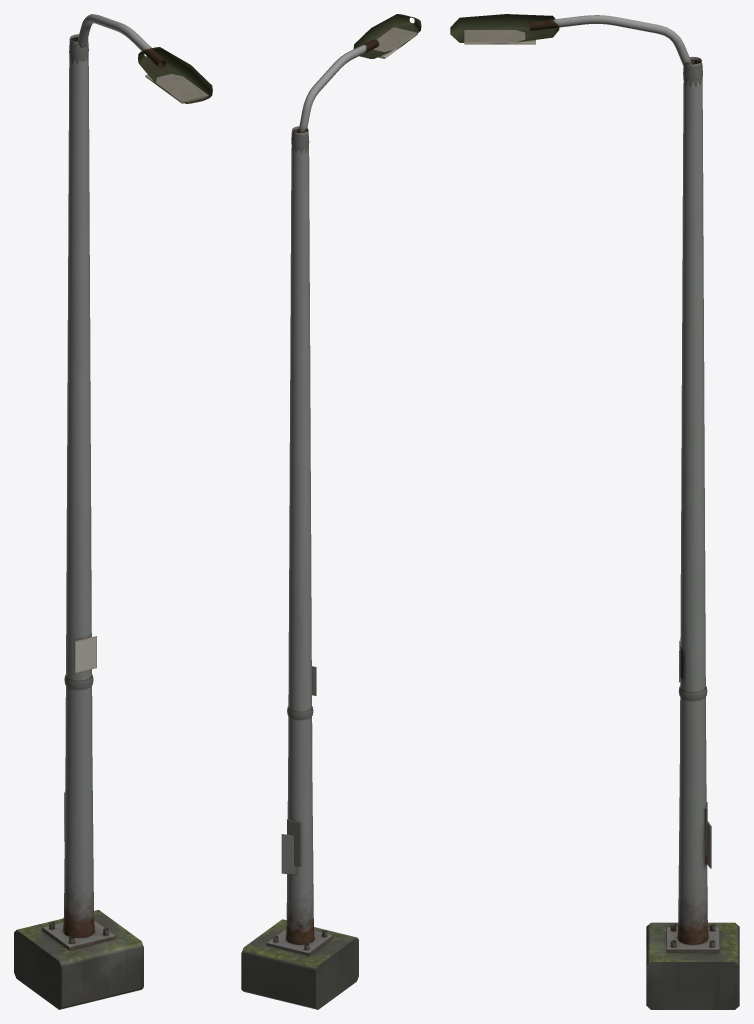
File: streetlight.glb
3 views of the same model, side by side, from view 1: azimuth 30°, elevation 25°; view 2: azimuth 150°, elevation 25°; view 3: azimuth 270°, elevation 25° (orthographic). The views are drawn at different scales.
Parts seen in each view (by area): view 1: streetlight; view 2: streetlight; view 3: streetlight.
Boxes of the visible parts, x1,y1,x2,y2 form: streetlight: [14, 14, 212, 1009]; streetlight: [241, 14, 421, 1009]; streetlight: [450, 14, 739, 1009].
Bounding box in the file's own units: 0.6 × 6.91 × 1.86.
1 material, 1 textured.
